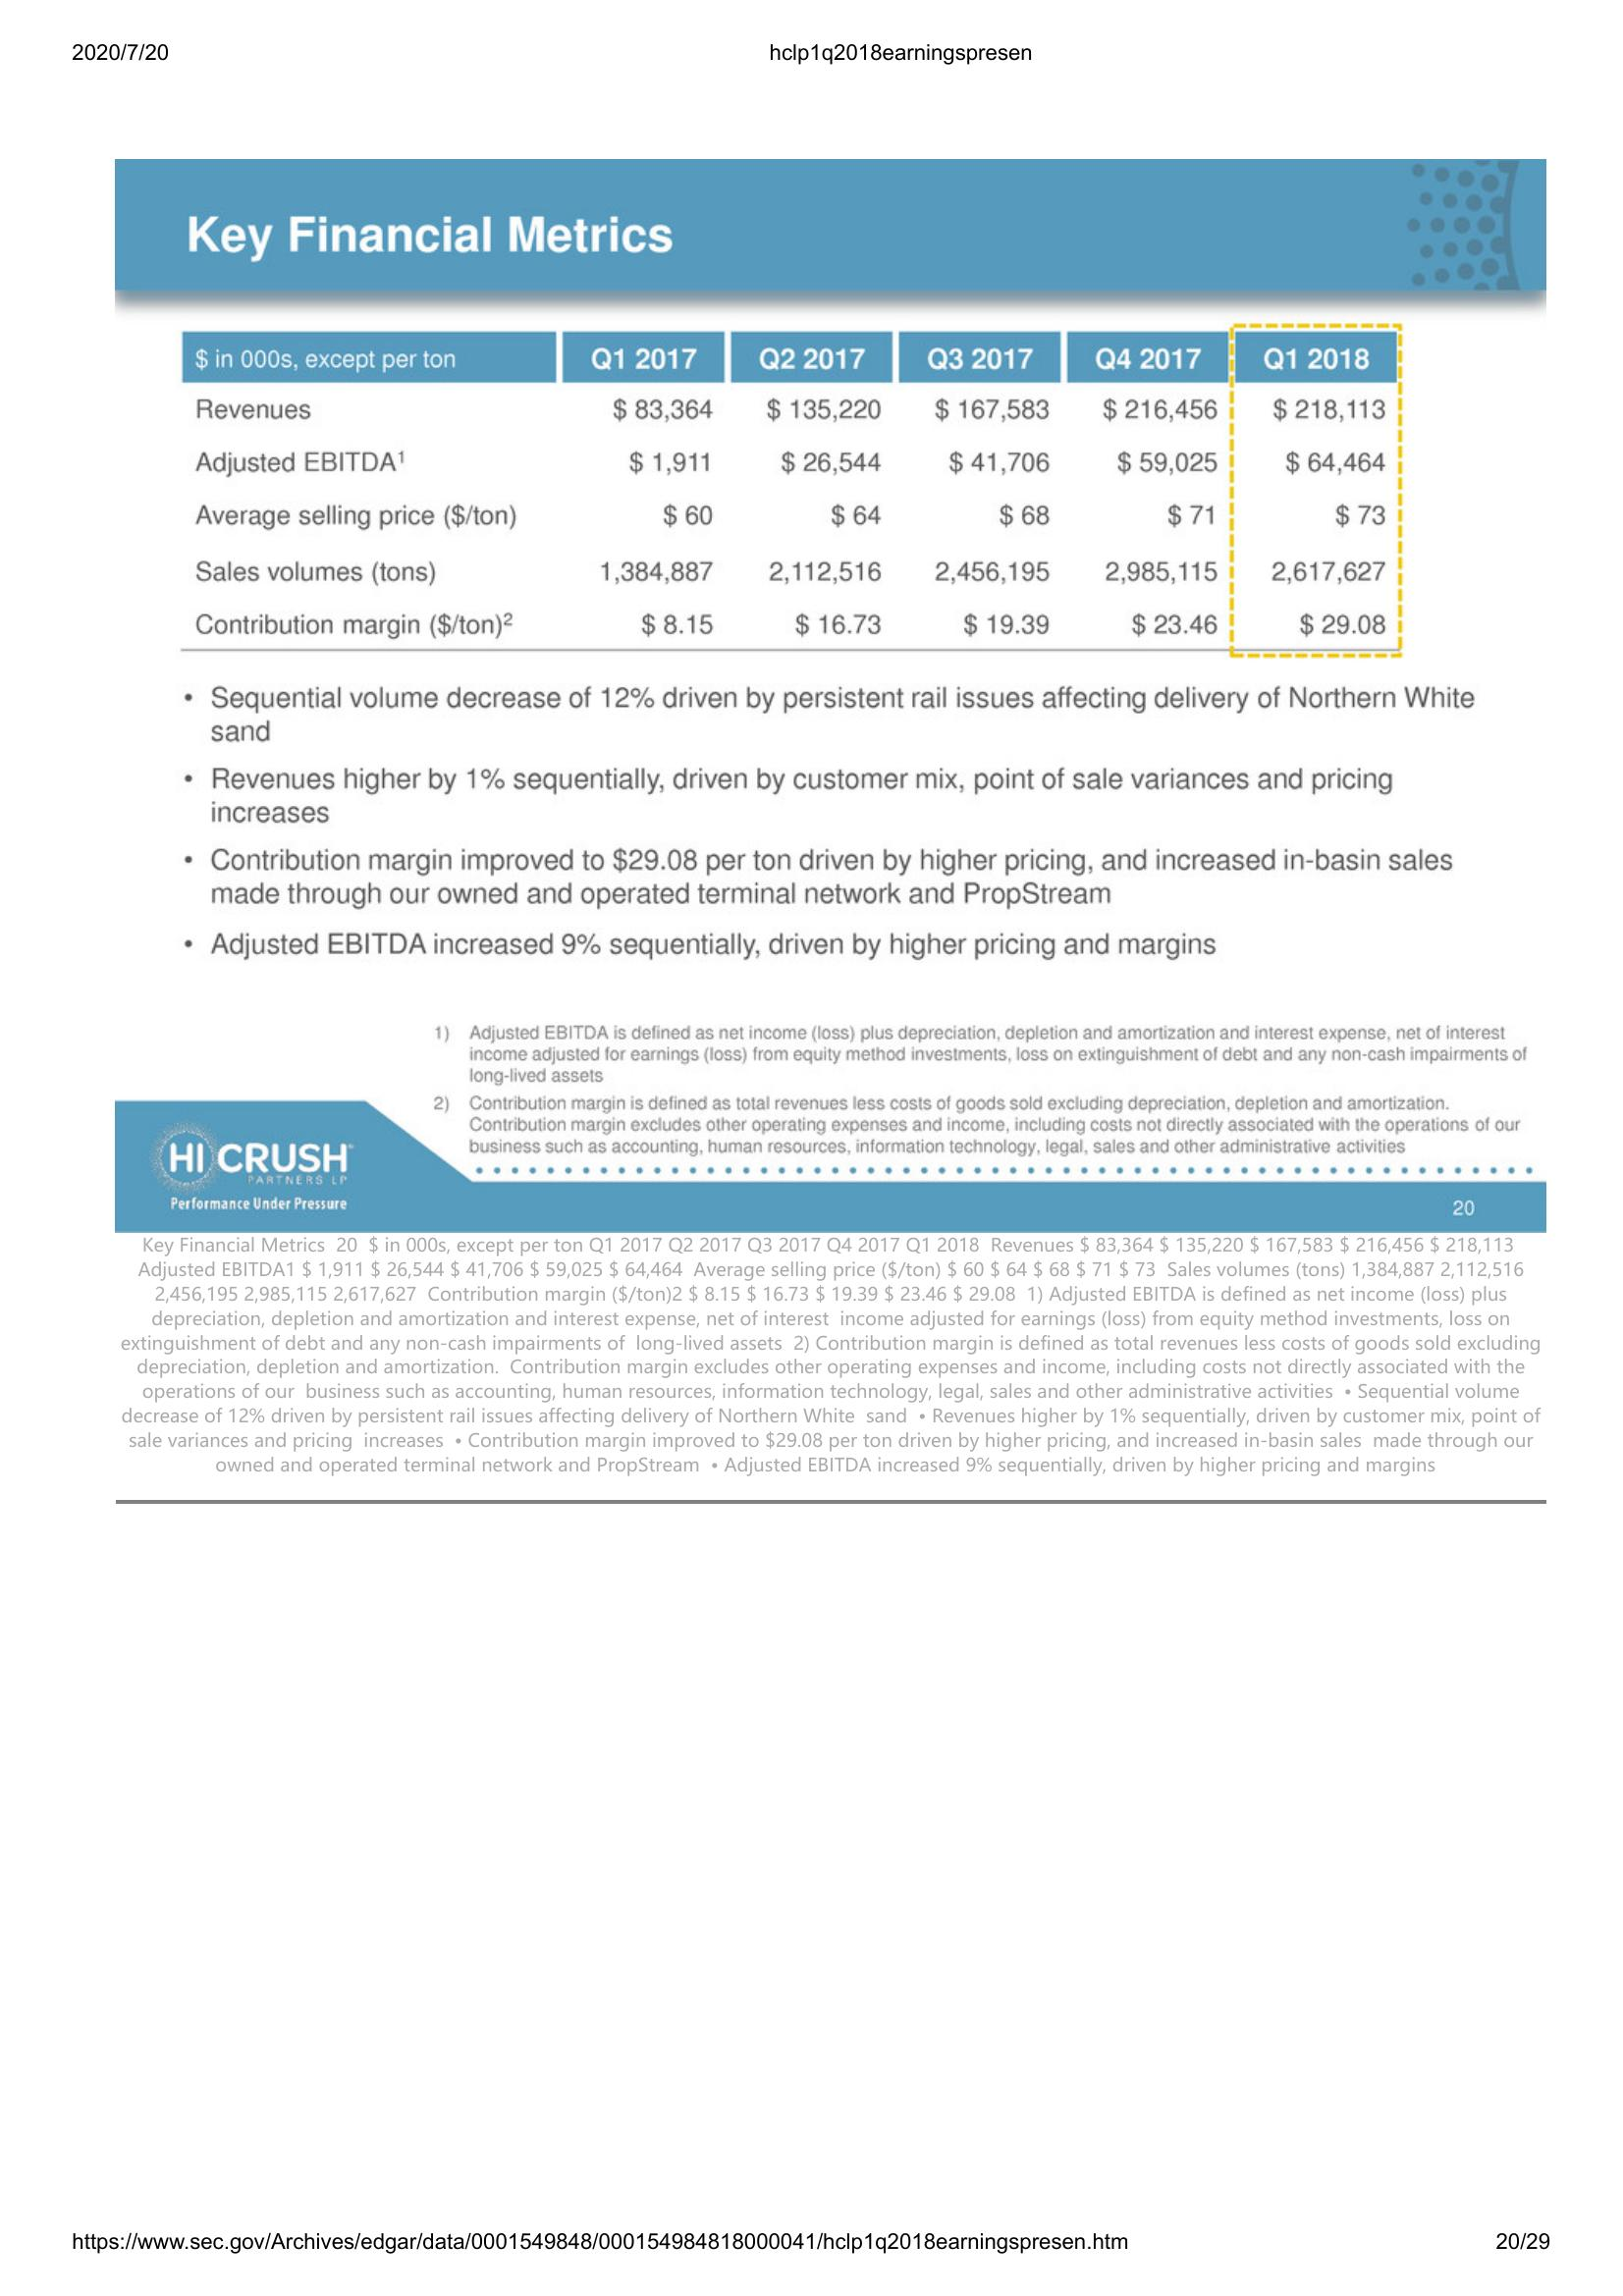table: (179, 328, 1410, 655)
